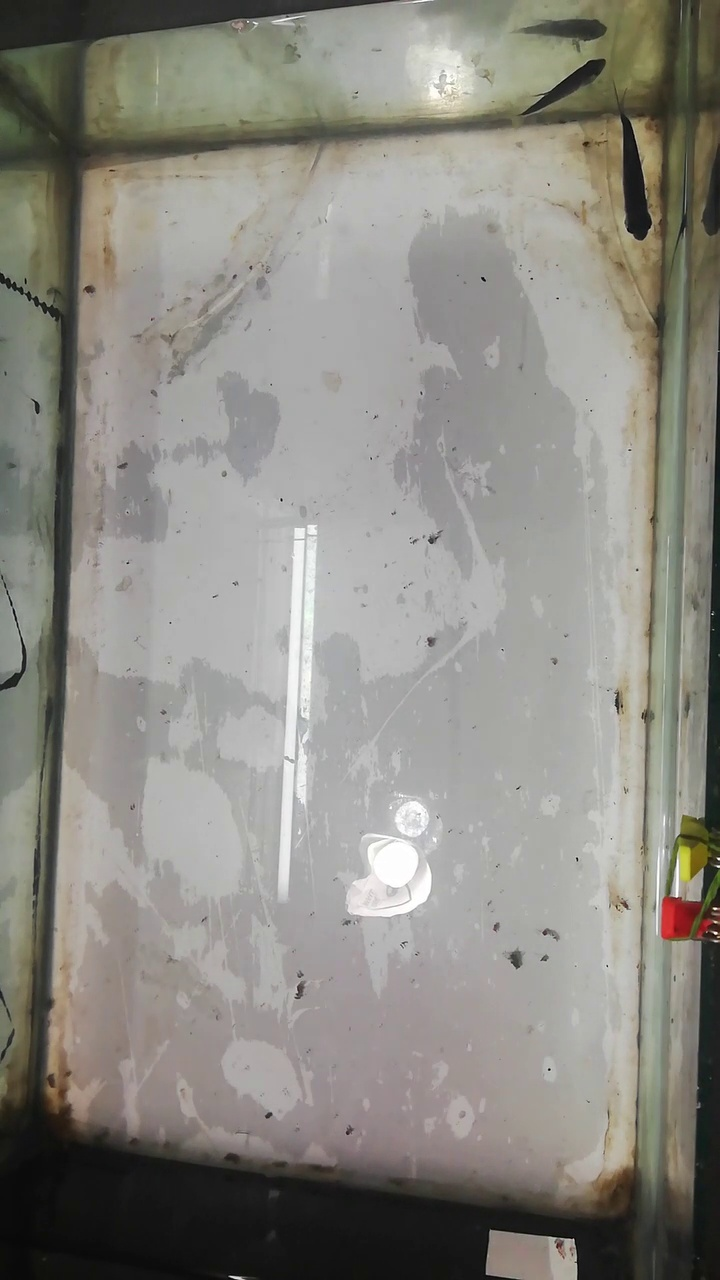fish1: (620, 110, 653, 242)
fish2: (529, 56, 606, 133)
